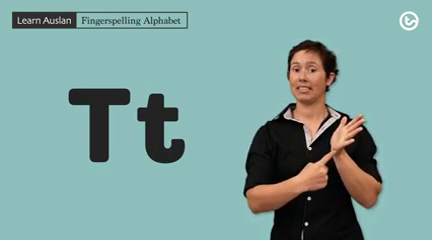T: (291, 109, 371, 196)
